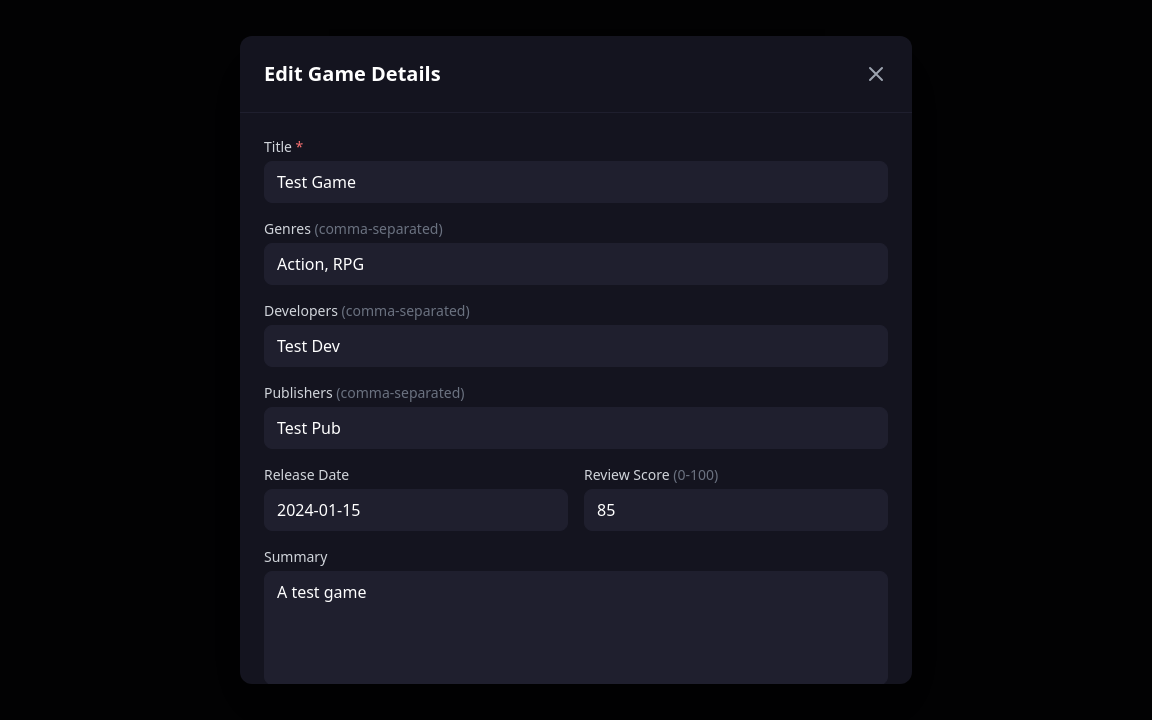
Test: EditModal › disables save button when title is empty
The image size is (1152, 720).
Clear the field showing "Test Game" below "Title": (576, 182) [264, 161, 888, 203]
(page scrolled)
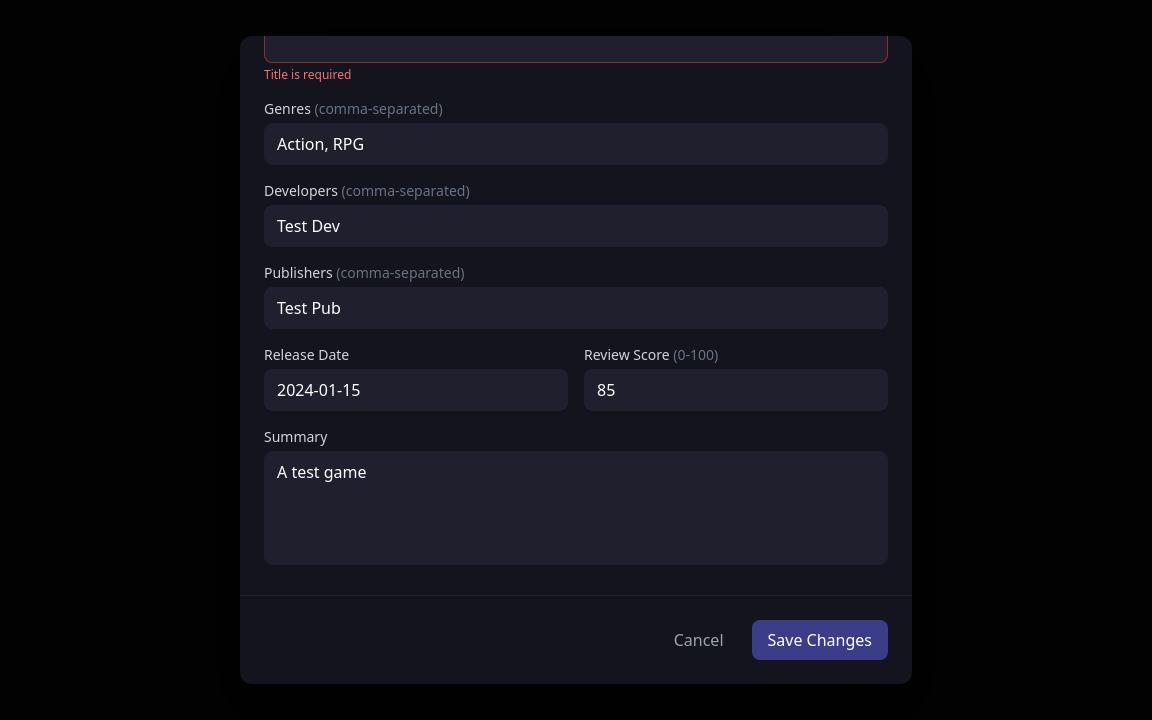
Check: the button "Save Changes" is disabled, box [752, 620, 888, 660]
